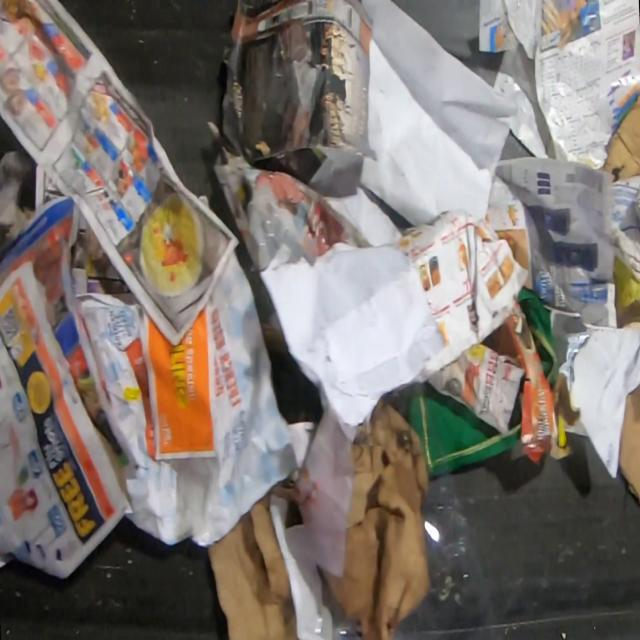cardboard: (297, 397, 431, 636), (208, 493, 295, 639), (604, 95, 640, 185), (618, 385, 639, 502)
rigid_plastic: (390, 473, 503, 639)
soft_plastic: (248, 182, 318, 272), (175, 458, 220, 543), (615, 252, 640, 316), (575, 157, 597, 169)
